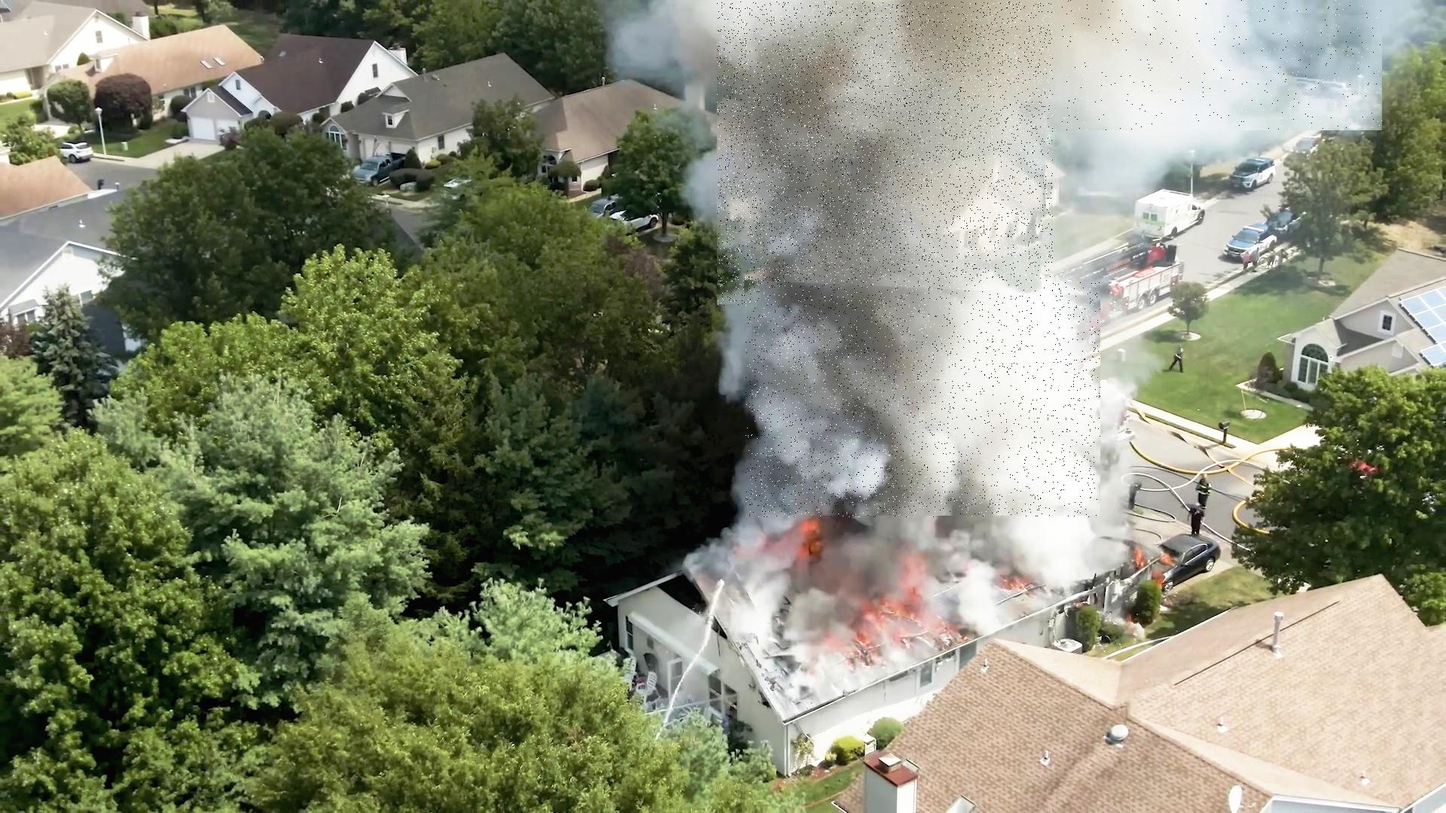smoke: (718, 2, 1054, 306), (746, 282, 1100, 518), (1062, 0, 1382, 130)
